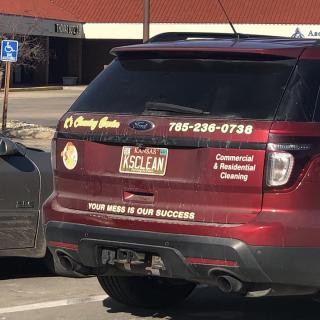license: (120, 147, 170, 177)
